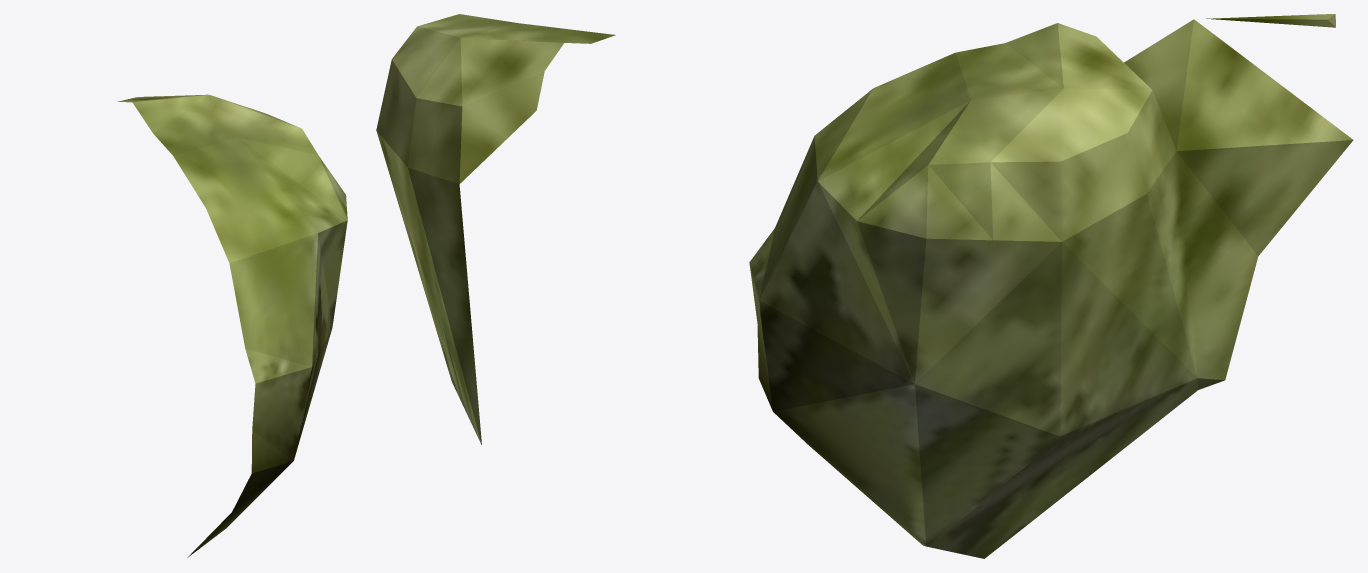
3 views of the same model, side by side, from view 1: azimuth 30°, elevation 25°; view 2: azimuth 150°, elevation 25°; view 3: azimuth 270°, elevation 25° (orthographic). The views are drawn at different scales.
Bounding box in the file's own units: 0.2742 × 0.695 × 0.6984.
1 material, 1 textured.
